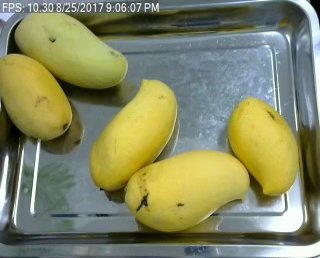Mango: (83, 77, 179, 192), (122, 147, 250, 232), (14, 6, 128, 88), (223, 95, 300, 197), (0, 53, 73, 139)
